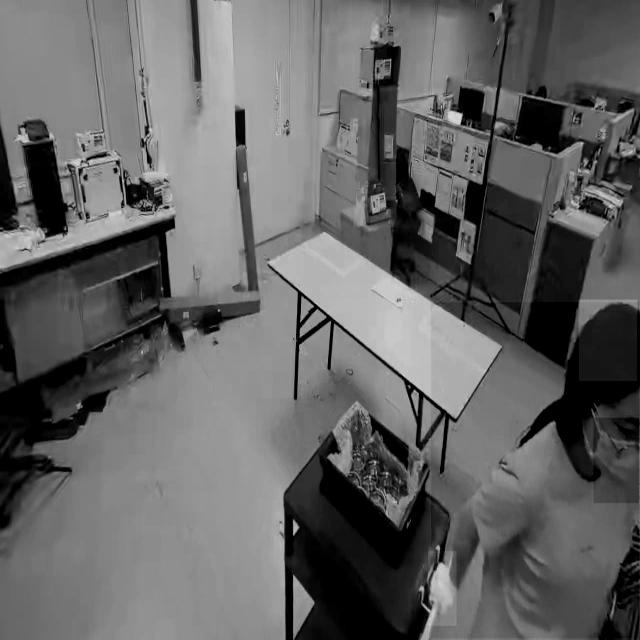face_mask: (594, 418, 640, 503)
hand_glove: (428, 551, 457, 627)
head_nohelmet: (578, 300, 638, 382)
person: (431, 302, 639, 639)
